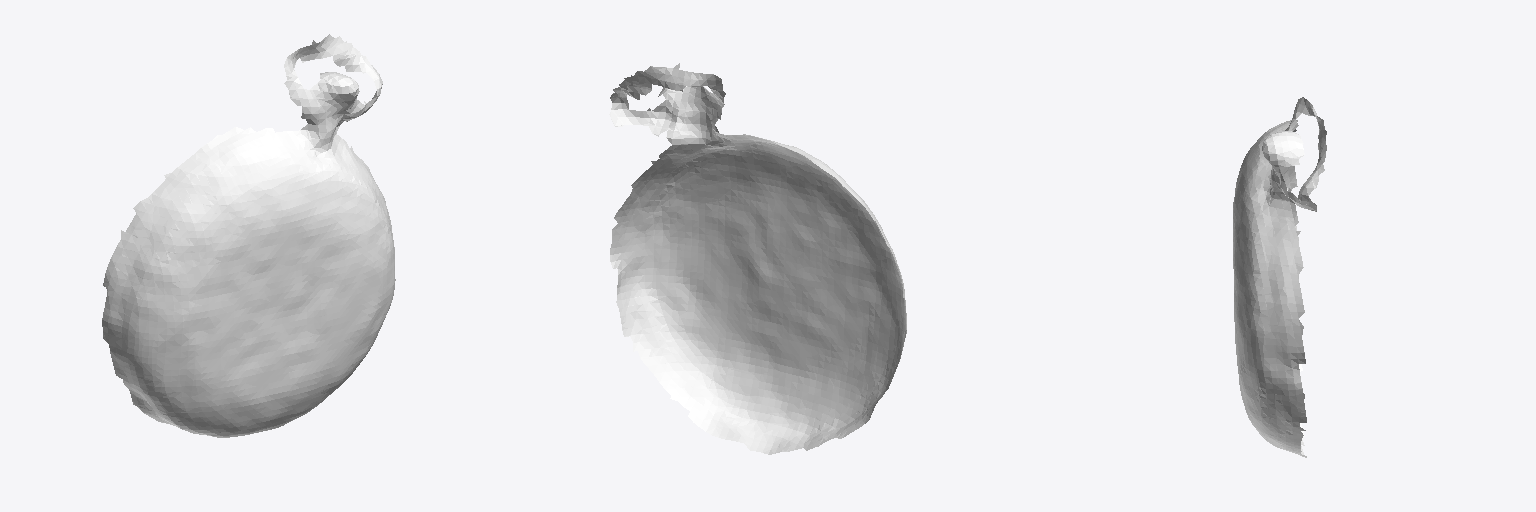
The model's file is WatchF.obj.
3 views of the same model, side by side, from view 1: azimuth 30°, elevation 25°; view 2: azimuth 150°, elevation 25°; view 3: azimuth 270°, elevation 25° (orthographic).
Visible parts, largest first — view 1: Group_Global; view 2: Group_Global; view 3: Group_Global.
Part boxes in pixels (x1,y1,x2,y2): Group_Global: (102,34,395,437); Group_Global: (609,63,906,454); Group_Global: (1233,97,1326,457).
Size of the model in its own units: 11.06 by 13.53 by 3.11.